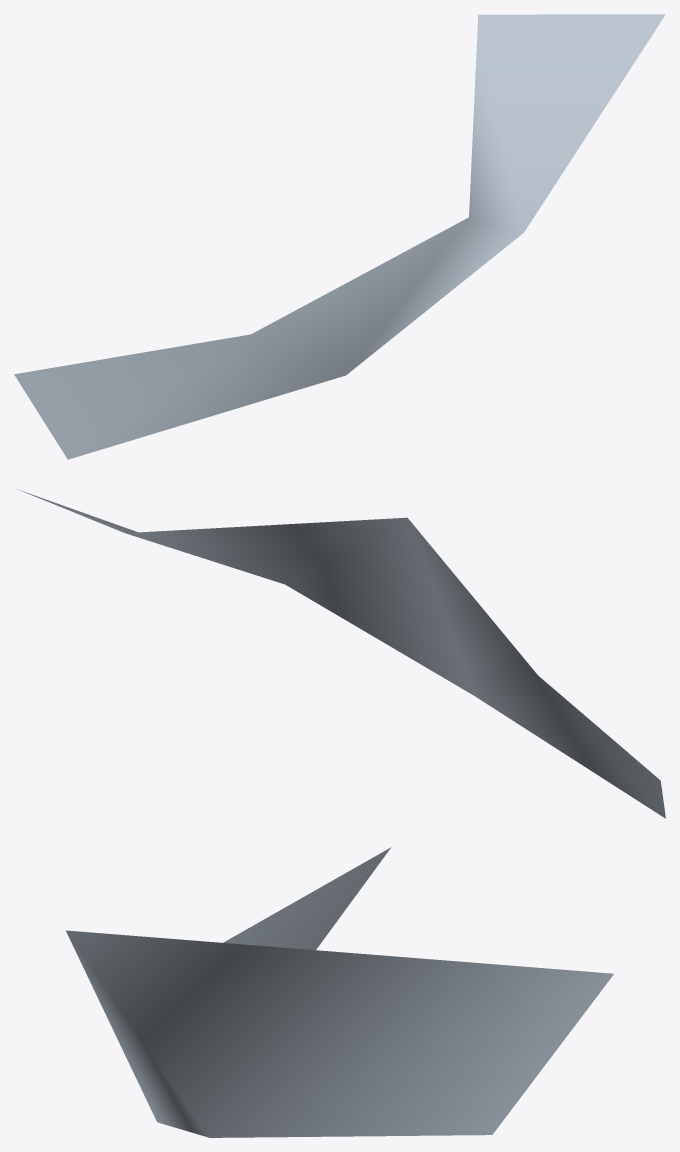
The model's file is palmar-scaphotriquetral-ligament-l.glb.
3 views of the same model, one above another, from view 1: azimuth 30°, elevation 25°; view 2: azimuth 150°, elevation 25°; view 3: azimuth 270°, elevation 25° (orthographic). The views are drawn at different scales.
Visible parts, largest first — view 1: Palmar scaphotriquetral ligament.l; view 2: Palmar scaphotriquetral ligament.l; view 3: Palmar scaphotriquetral ligament.l.
Boxes of the visible parts, box(x1,y1,x2,y2) form: Palmar scaphotriquetral ligament.l: box(14, 14, 665, 459); Palmar scaphotriquetral ligament.l: box(17, 489, 665, 818); Palmar scaphotriquetral ligament.l: box(65, 847, 613, 1137).
Bounding box in the file's own units: 0.0197 × 0.0071 × 0.00752.
